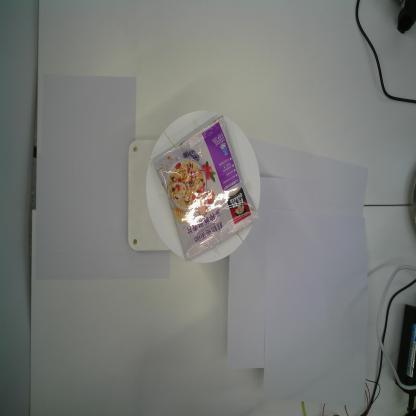Instant Drink: (152, 115, 260, 262)
